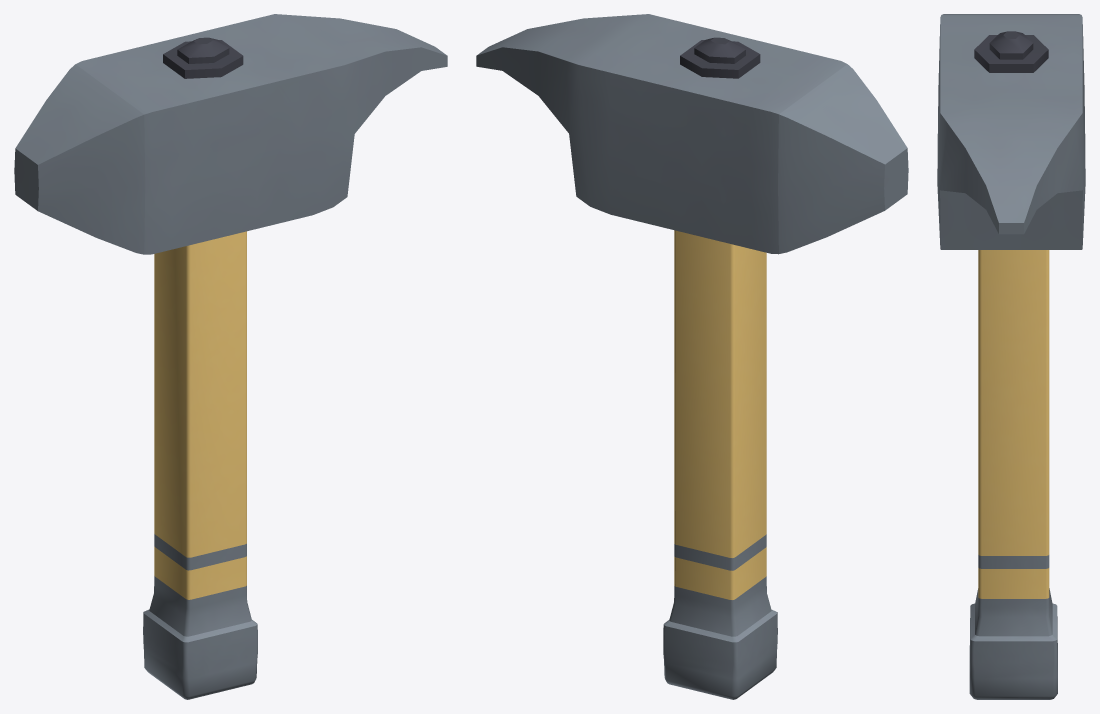
Rendered from Hammer_Lvl_1.fbx.
The picture shows the model from 3 angles, left to right: view 1: azimuth 30°, elevation 25°; view 2: azimuth 150°, elevation 25°; view 3: azimuth 270°, elevation 25°; orthographic projection. The views are drawn at different scales.
Parts seen in each view (by area): view 1: Hammer_Lvl1_Head, Hammer_Lvl1_Handle; view 2: Hammer_Lvl1_Head, Hammer_Lvl1_Handle; view 3: Hammer_Lvl1_Head, Hammer_Lvl1_Handle.
Part boxes in pixels (x1,y1,x2,y2): Hammer_Lvl1_Head: (14, 14, 447, 254); Hammer_Lvl1_Handle: (143, 231, 257, 699); Hammer_Lvl1_Head: (476, 14, 908, 254); Hammer_Lvl1_Handle: (663, 230, 777, 699); Hammer_Lvl1_Head: (937, 14, 1085, 249); Hammer_Lvl1_Handle: (969, 250, 1057, 699).
Bounding box in the file's own units: 40.87 × 60.16 × 12.44.
